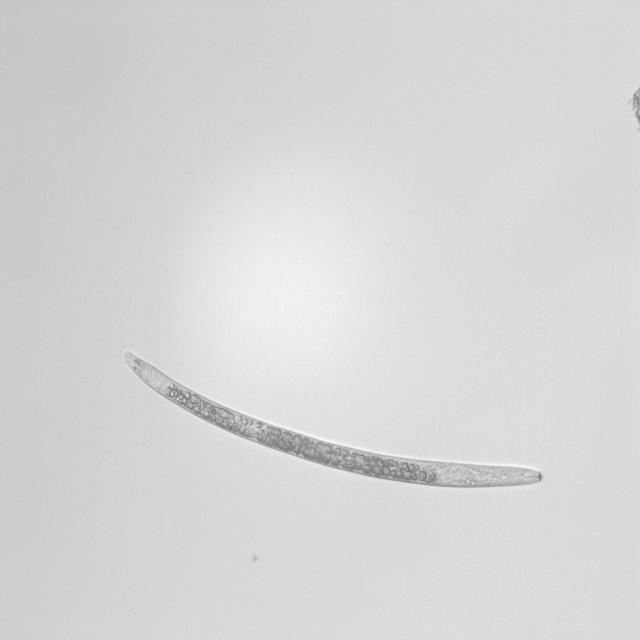Pratylenchus: (116, 344, 553, 494)
